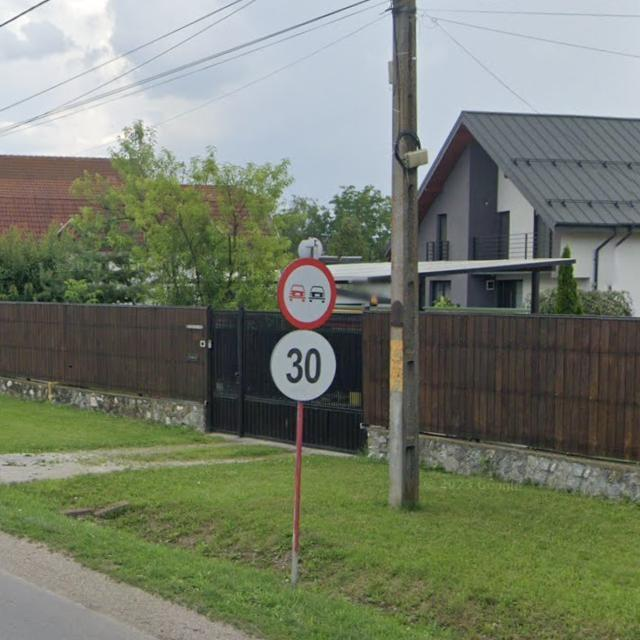forb_overtake: (277, 257, 337, 329)
forb_speed_over_30: (270, 330, 337, 402)
